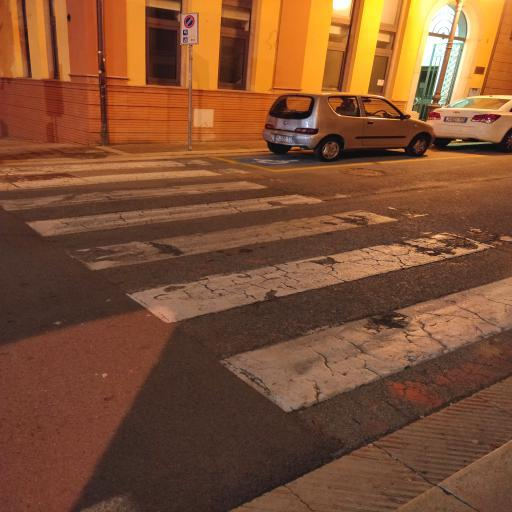crosswalk: (22, 192, 400, 276)
